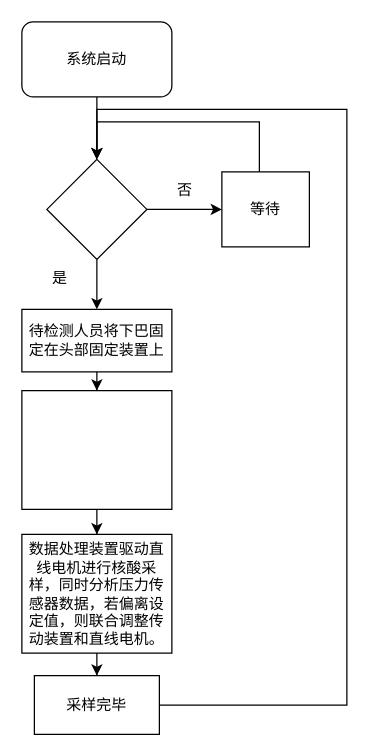
The diagram is 379 pixels wide and 756 high, and some of its shapes have lost their labels. The shapes that lost their labels are listed below. From the top down, each one's centre as x and y in pixels, then its label:
the point at 96,208: 是否有待检测人员
the point at 96,449: 根据光学传感器信息，数据处理装置计算口腔在传动装置坐标系中的位置，并控制传动装置移动到合适位置
